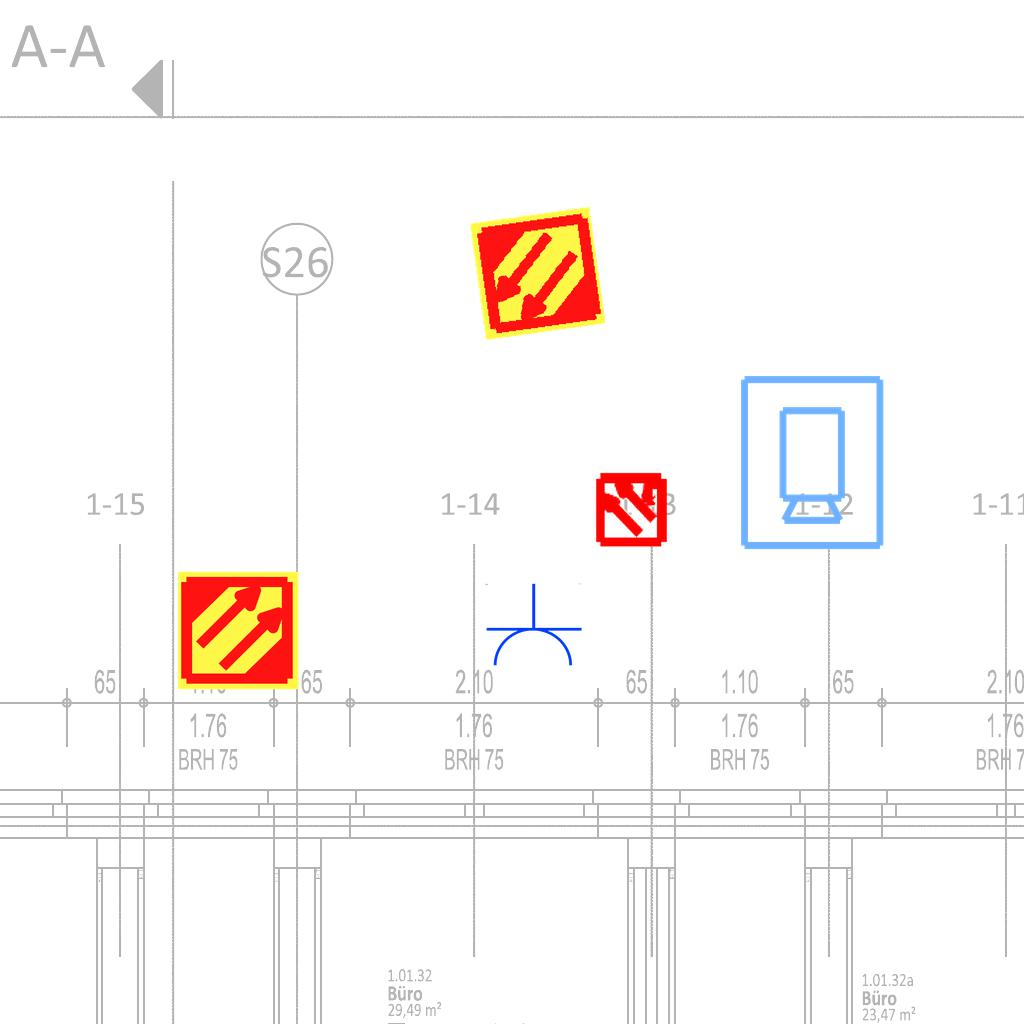ASR_Ansaugrauchmelder: (466, 202, 609, 345), (176, 568, 301, 693)
KFO_Kamera_mit_Festobjektiv: (734, 371, 888, 553)
OT_Multisensormelder_(Kombination_RMO_WMD): (575, 451, 688, 564)
Schukosteckdose_einfach: (483, 583, 583, 670)
